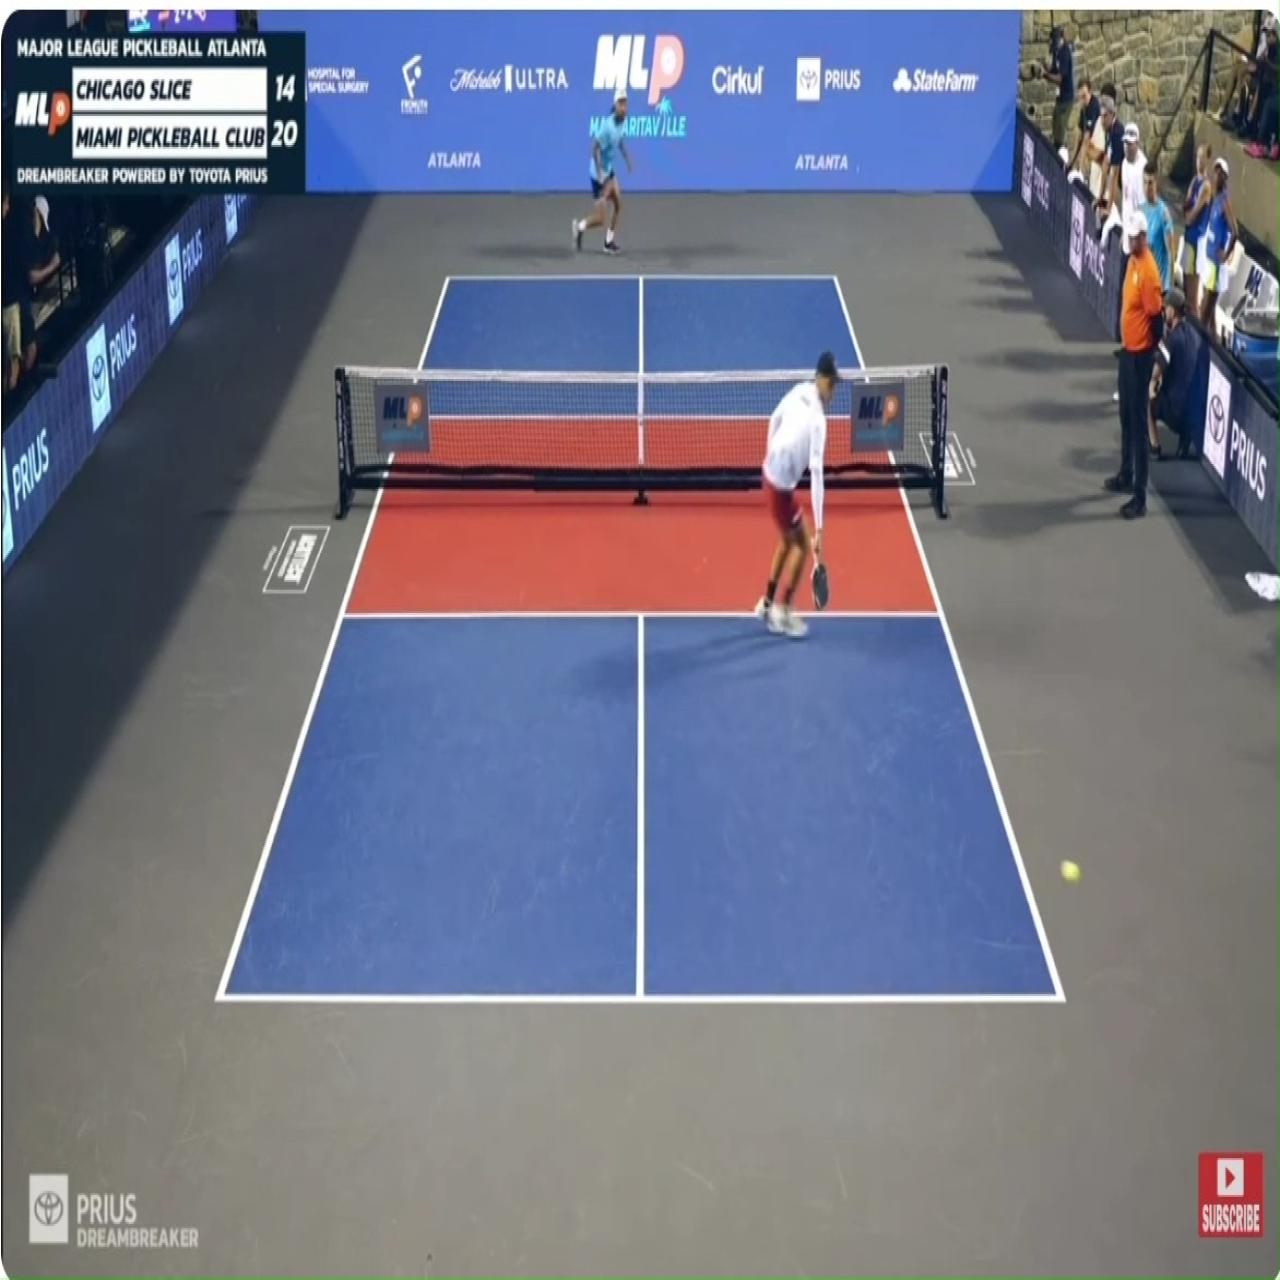pickleball: (1061, 860, 1081, 881)
